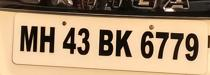3: (76, 27, 93, 56)
4: (61, 26, 77, 56)
6: (137, 30, 155, 59)
7: (170, 31, 185, 63), (155, 30, 170, 61)
9: (185, 33, 201, 62)
B: (96, 27, 116, 57)
H: (40, 25, 56, 54)
K: (114, 28, 135, 60)
M: (19, 24, 39, 53)
